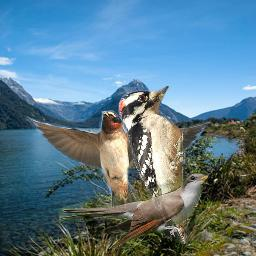Cuckoo: (59, 173, 208, 249)
Swallow: (23, 110, 211, 215)
Woodpecker: (118, 86, 189, 244)
